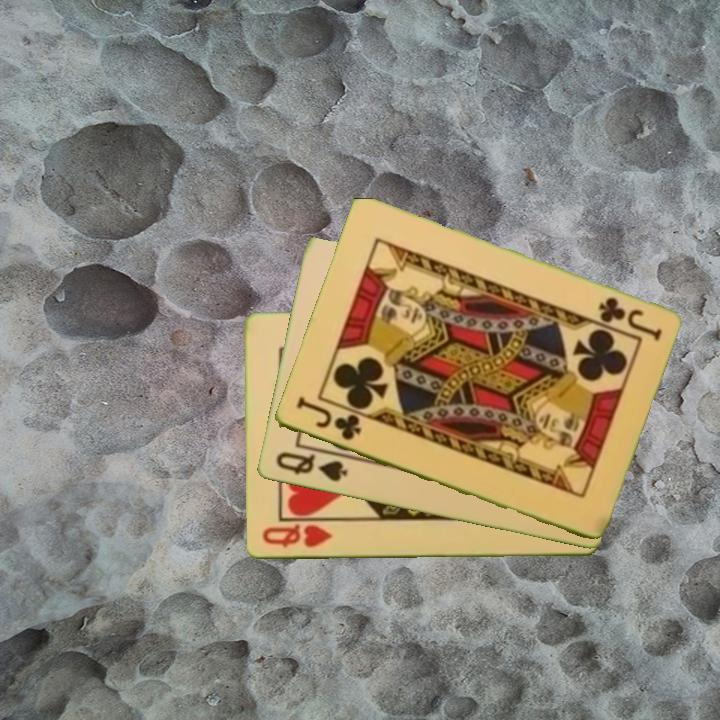Jc: (292, 394, 364, 444), (594, 293, 665, 342)
Qh: (259, 521, 335, 551)
Qs: (272, 448, 350, 485)
